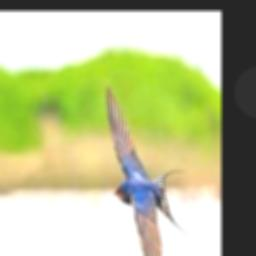Swallow: (107, 83, 195, 256)
